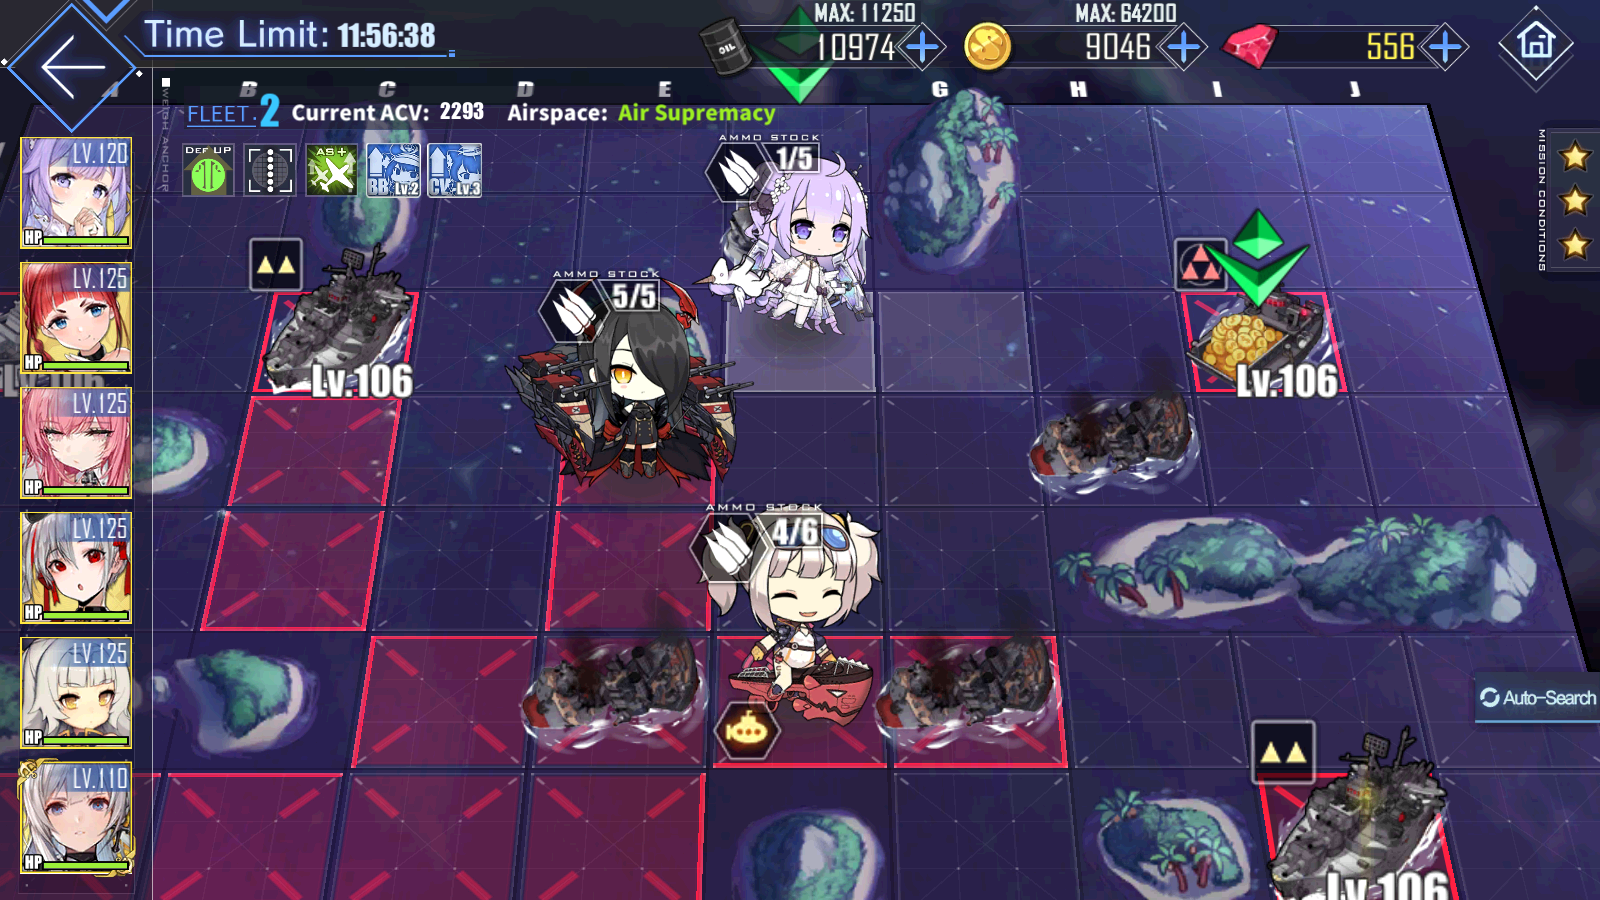ally: (501, 270, 736, 495), (690, 501, 884, 727), (700, 133, 873, 341)
enemy: (1252, 720, 1457, 900), (1173, 236, 1345, 393), (246, 238, 412, 397)
